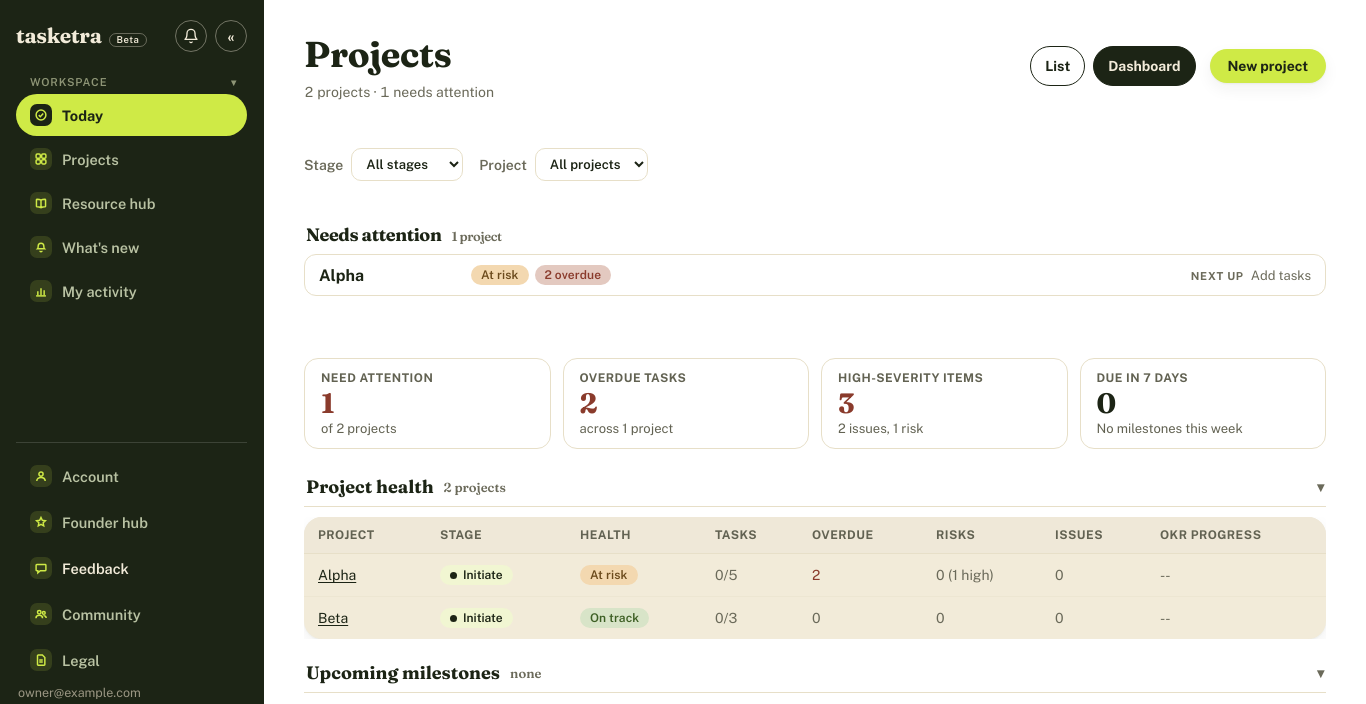
Test: Dashboard command center › counts problems, turns them red, and Need attention opens the filtered list
This screenshot has width=1366, height=704.
Click the button with class "kp-bad" showing "Need attention 1 of 2 projects" at (427, 404), box [304, 358, 550, 449]
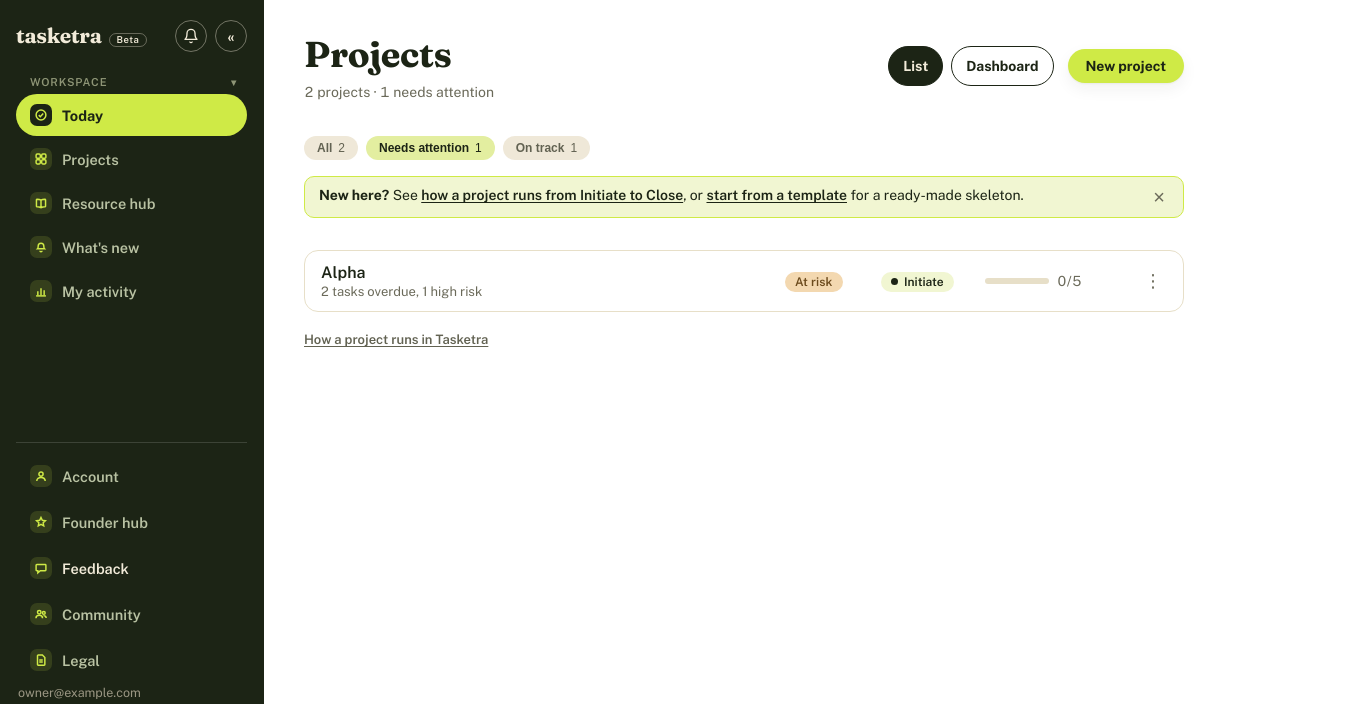
Expected: the list item "Alpha 2 tasks overdue, 1 high risk At risk Initiate 0/5 ⋮" is shown, [305, 251, 1183, 311]
